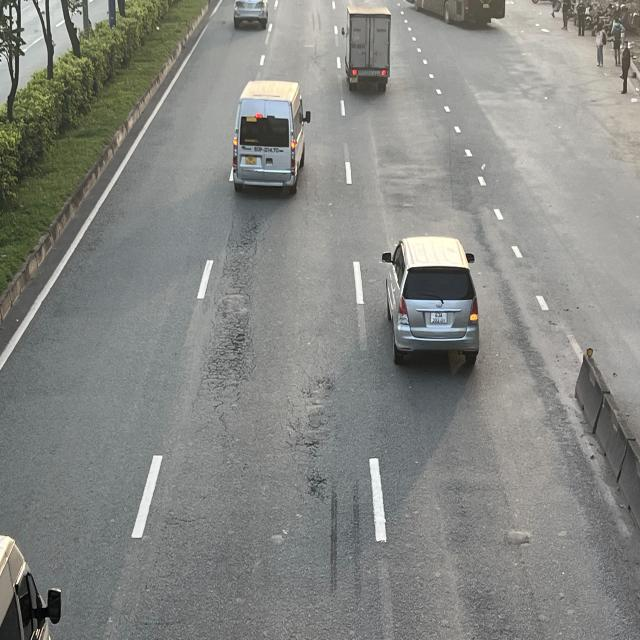car: (381, 235, 480, 367), (233, 0, 270, 28)
truck: (343, 4, 391, 91)
van: (233, 81, 312, 198)
